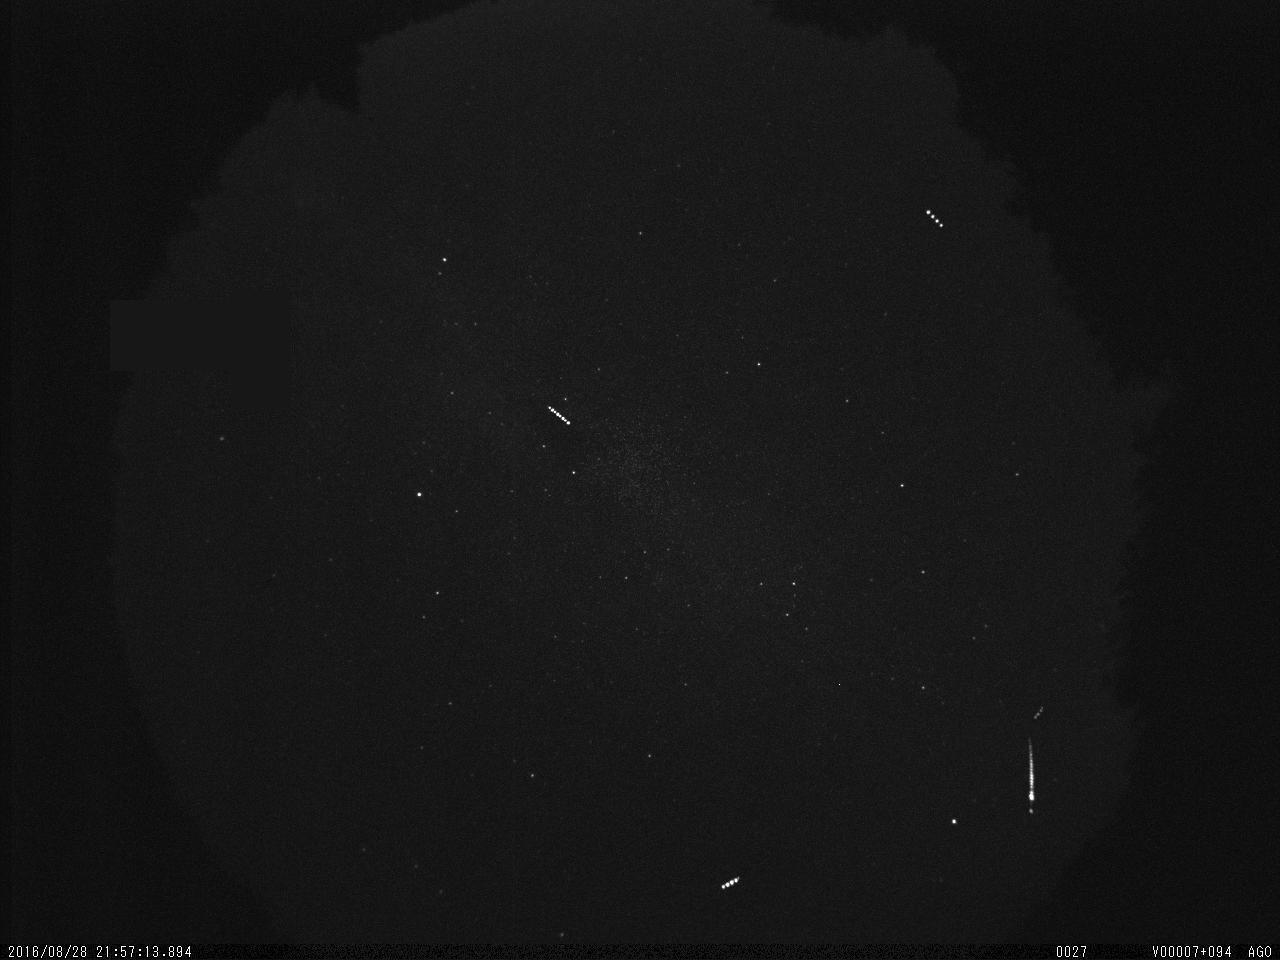meteor: (1018, 728, 1046, 804)
satelite: (540, 397, 579, 433), (918, 201, 953, 237), (715, 871, 747, 895)
